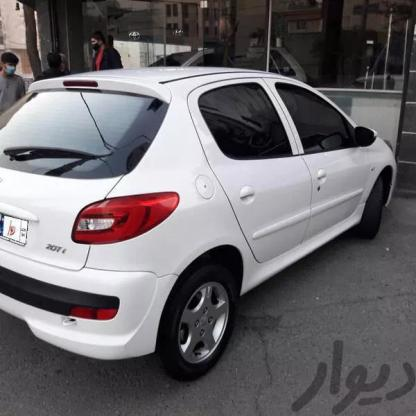Car: (0, 64, 396, 385)
